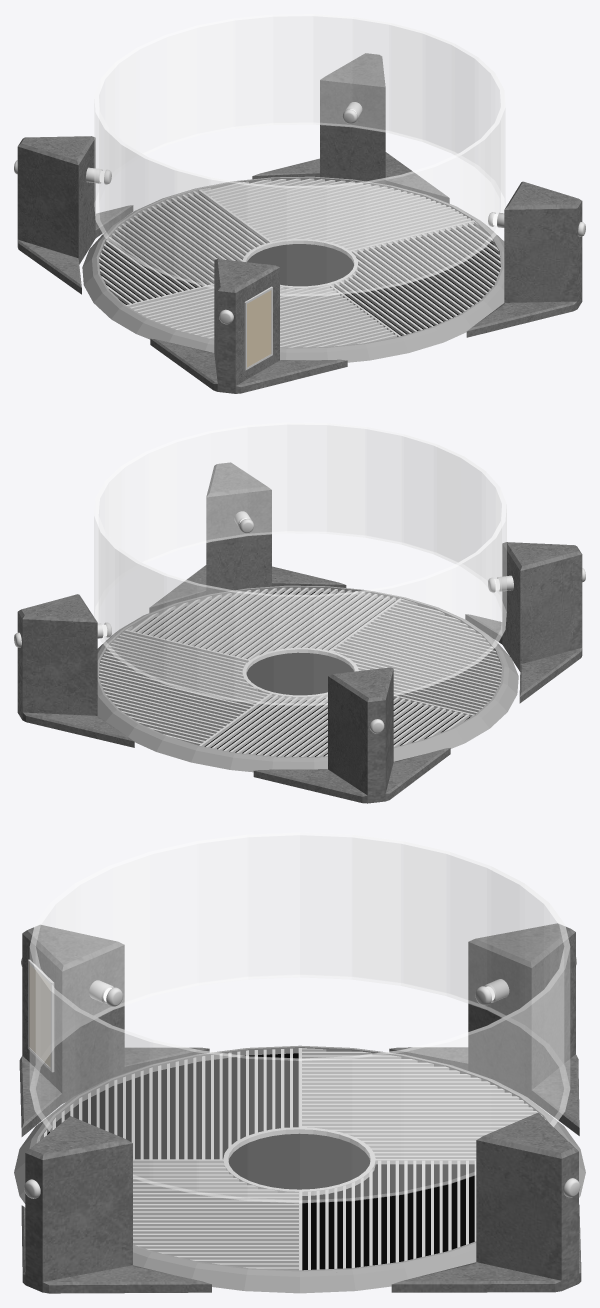
The model's file is wind_tunnel2.glb.
3 views of the same model, one above another, from view 1: azimuth 30°, elevation 25°; view 2: azimuth 150°, elevation 25°; view 3: azimuth 270°, elevation 25° (orthographic). The views are drawn at different scales.
Visible parts, largest first — view 1: Cylinder.001, Cube.006, Cylinder.003, Cylinder.006, Cylinder.004, Cylinder.002, Cylinder.005, Cylinder, Cube; view 2: Cylinder.001, Cube.006, Cylinder.005, Cylinder.003, Cylinder.004, Cylinder.006, Cylinder.002, Cylinder; view 3: Cylinder.001, Cube.006, Cylinder, Cylinder.003, Cylinder.006, Cylinder.004, Cylinder.005, Cylinder.002, Cube.
Boxes of the visible parts, x1,y1,x2,y2 form: Cylinder.001: (94,14,505,296); Cube.006: (99,178,500,347); Cylinder.003: (14,136,133,294); Cylinder.006: (466,181,585,337); Cylinder.004: (252,53,449,203); Cylinder.002: (82,176,504,362); Cylinder.005: (150,259,347,393); Cylinder: (99,193,500,335); Cube: (244,286,272,370); Cylinder.001: (94,422,506,705); Cube.006: (99,587,501,756); Cylinder.005: (465,542,585,703); Cylinder.003: (253,667,450,803); Cylinder.004: (14,594,134,747); Cylinder.006: (149,462,346,612); Cylinder.002: (97,585,518,772); Cylinder: (136,591,469,756); Cylinder.001: (29,832,570,1202); Cube.006: (44,1048,545,1272); Cylinder: (47,1053,474,1270); Cylinder.003: (389,923,579,1135); Cylinder.006: (21,1116,211,1293); Cylinder.004: (391,1113,581,1292); Cylinder.005: (19,925,209,1136); Cylinder.002: (14,1045,585,1293); Cube: (28,959,54,1072).
Bounding box in the file's own units: 30.67 × 13.49 × 30.67.
Materials: 9 (1 with a texture image).
